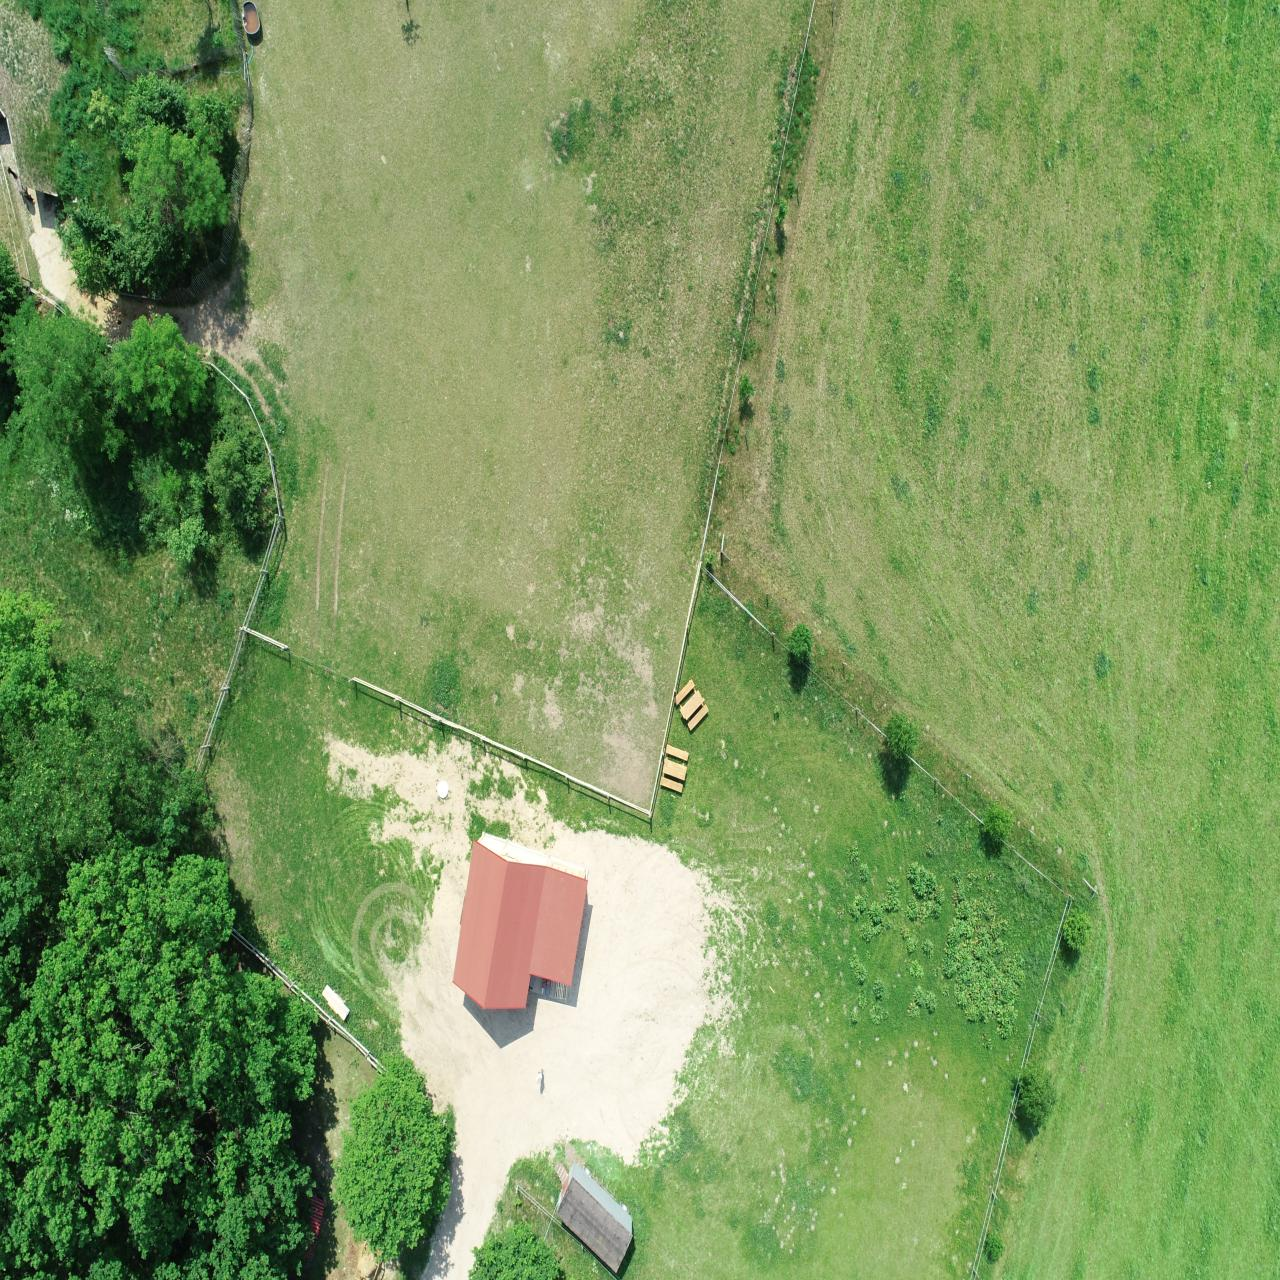cow: (1205, 842, 1260, 925)
